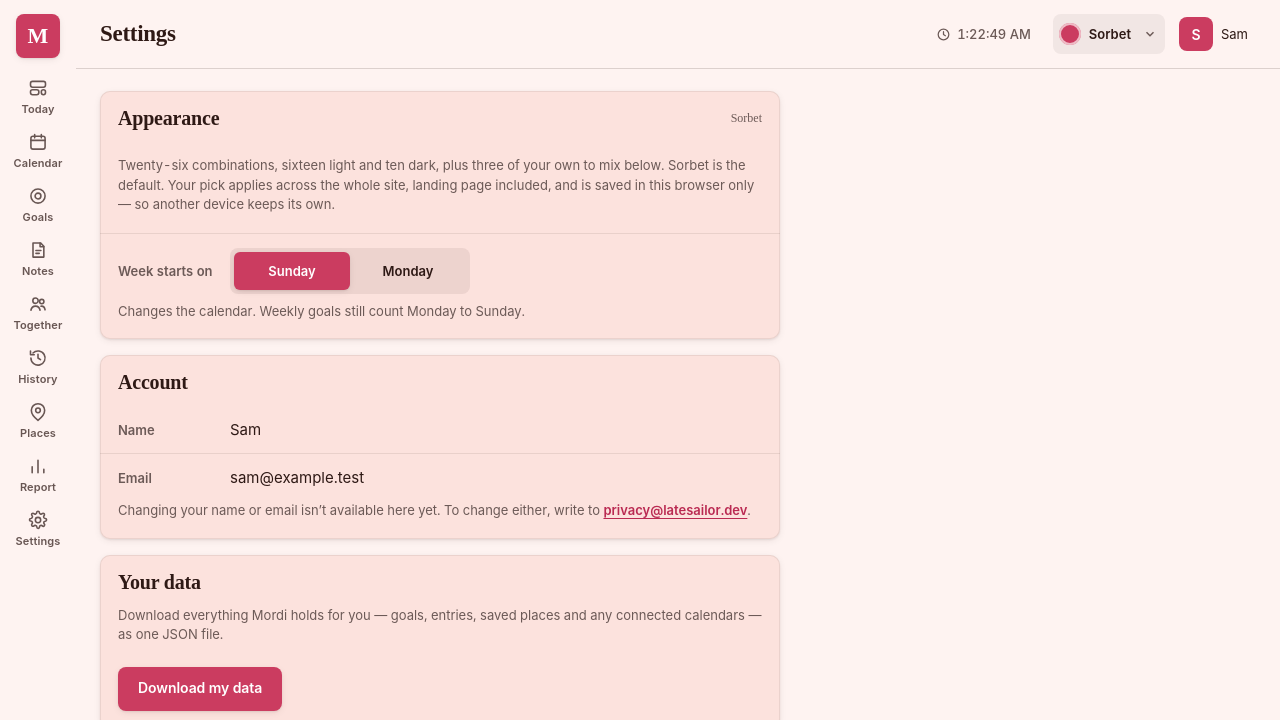
Test: Download my data › says so when the export fails, and saves nothing
This screenshot has width=1280, height=720.
What coordinates should you click on to do the following:
click the button "Download my data"
I would click on:
 (200, 688)
Its box is [118,666,282,710].
(page scrolled)
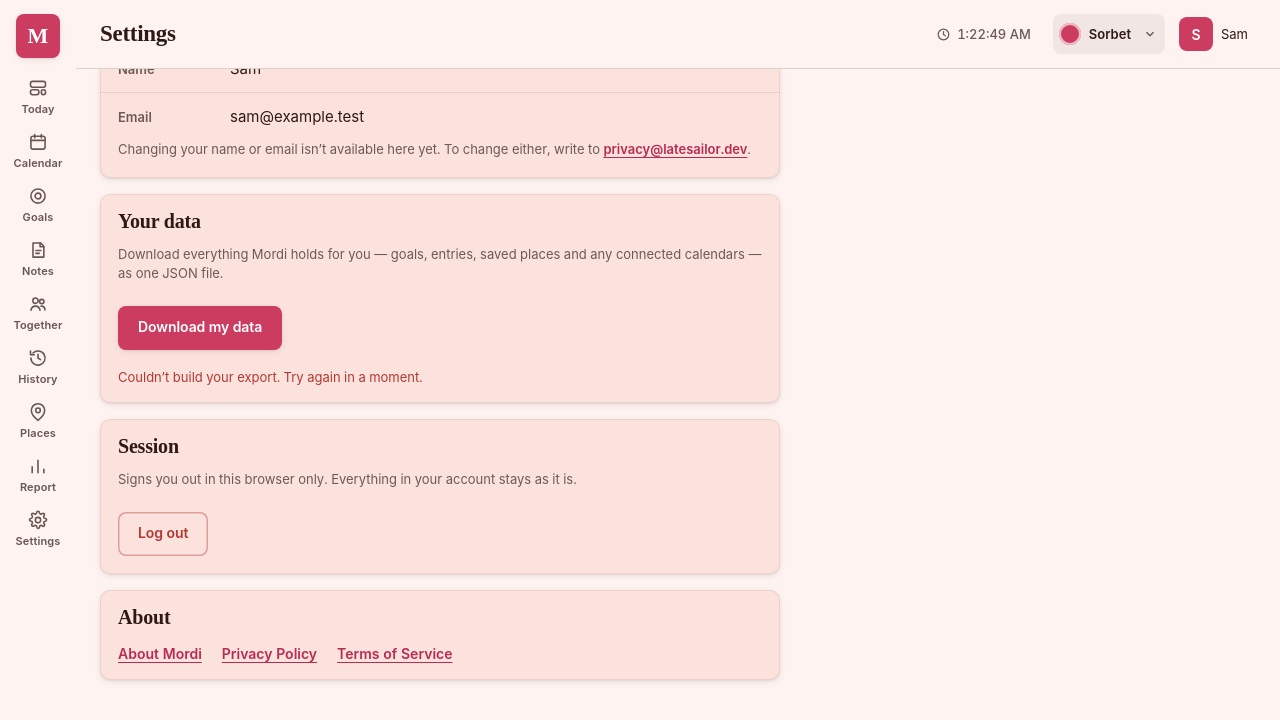
Result: the text "Couldn’t build your export. Try again in a moment." is shown at [118,368,423,384]
